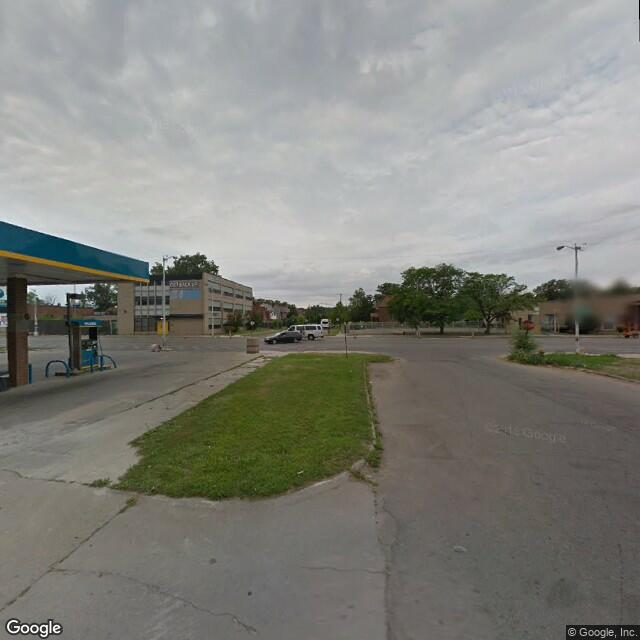litter: (294, 469, 306, 476)
